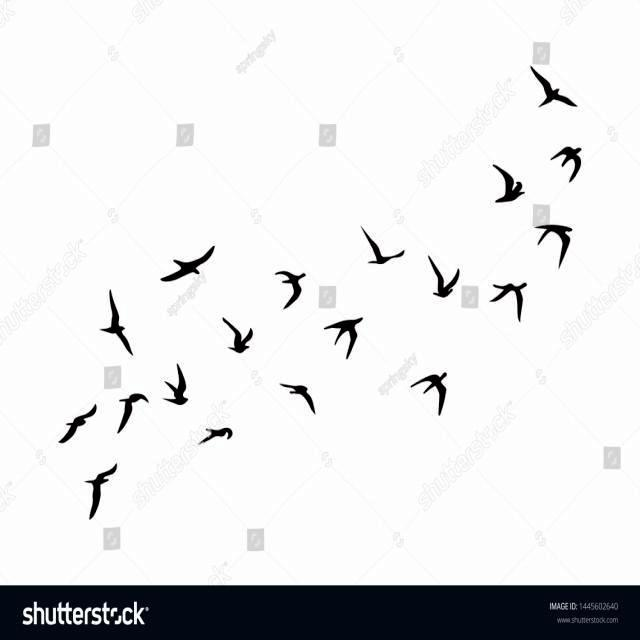bird: (396, 346, 459, 438), (513, 56, 591, 114), (352, 214, 422, 278), (92, 280, 144, 362), (259, 250, 312, 324), (160, 234, 218, 298), (53, 385, 109, 450), (75, 452, 118, 536), (527, 210, 582, 274), (99, 364, 152, 430), (484, 152, 534, 219), (408, 250, 462, 312), (545, 133, 600, 190), (321, 304, 371, 366), (274, 362, 325, 419), (483, 266, 530, 326), (210, 305, 260, 358), (190, 406, 242, 452), (152, 350, 186, 414)
